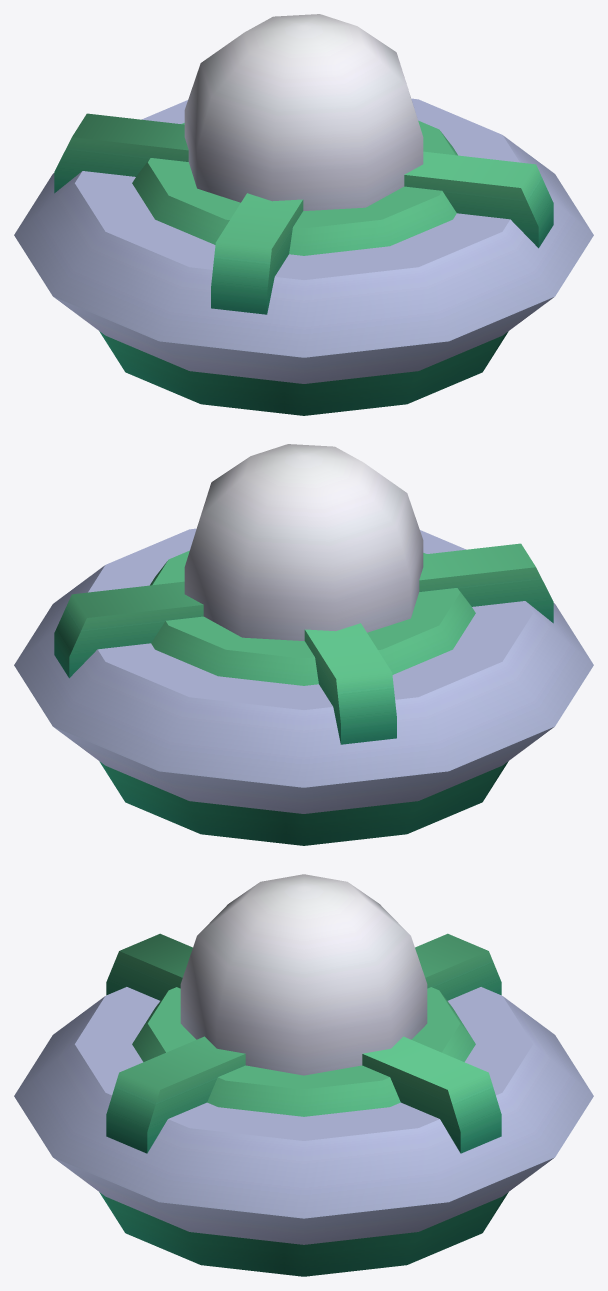
Rendered from kenney-tower-defense-enemy-ufo-b.glb.
3 renders of one model, top to bottom at view 1: azimuth 30°, elevation 25°; view 2: azimuth 150°, elevation 25°; view 3: azimuth 270°, elevation 25°, orthographic.
Visible parts, largest first — view 1: enemy-ufo-b; view 2: enemy-ufo-b; view 3: enemy-ufo-b.
Boxes of the visible parts, x1,y1,x2,y2 form: enemy-ufo-b: [14, 14, 593, 415]; enemy-ufo-b: [14, 444, 593, 845]; enemy-ufo-b: [14, 874, 593, 1276].
Bounding box in the file's own units: 0.9994 × 0.5754 × 1.
Materials: 1 (1 with a texture image).
